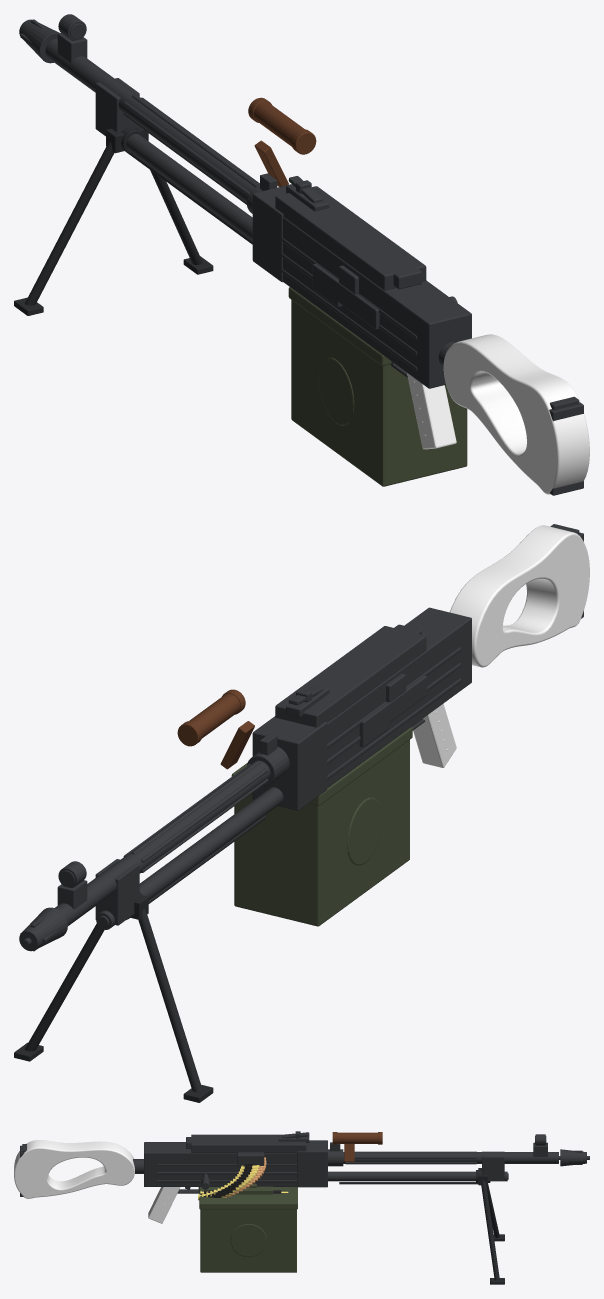
File: bixi.glb
The picture shows the model from 3 angles, top to bottom: view 1: azimuth 30°, elevation 25°; view 2: azimuth 150°, elevation 25°; view 3: azimuth 270°, elevation 25°; orthographic projection. The views are drawn at different scales.
Visible parts, largest first — view 1: Bixi_Receiver_Group, Bixi_Ammo_Can, Bixi_Wood_Stock, Bixi_Fluted_Barrel_Gas, Bixi_Bipod_Assembly, Bixi_Carry_Handle, Bixi_Pistol_Grip, Bixi_Muzzle_FrontSight, Bixi_Stock_Fittings; view 2: Bixi_Receiver_Group, Bixi_Ammo_Can, Bixi_Fluted_Barrel_Gas, Bixi_Wood_Stock, Bixi_Bipod_Assembly, Bixi_Muzzle_FrontSight, Bixi_Carry_Handle, Bixi_Pistol_Grip; view 3: Bixi_Receiver_Group, Bixi_Ammo_Can, Bixi_Fluted_Barrel_Gas, Bixi_Wood_Stock, Bixi_Bipod_Assembly, Bixi_Carry_Handle, Bixi_Muzzle_FrontSight, Bixi_Pistol_Grip, Bixi_Ammo_Belt_Brass, Bixi_Belt_Links, Bixi_Ammo_Copper_Tips, Bixi_Stock_Fittings.
Boxes of the visible parts, left/top/right/bottom form: Bixi_Receiver_Group: left=252, top=176, right=471, bottom=388; Bixi_Ammo_Can: left=288, top=287, right=467, bottom=486; Bixi_Wood_Stock: left=443, top=334, right=589, bottom=494; Bixi_Fluted_Barrel_Gas: left=45, top=38, right=277, bottom=240; Bixi_Bipod_Assembly: left=14, top=126, right=252, bottom=315; Bixi_Carry_Handle: left=248, top=97, right=316, bottom=186; Bixi_Pistol_Grip: left=407, top=373, right=456, bottom=449; Bixi_Muzzle_FrontSight: left=19, top=14, right=87, bottom=63; Bixi_Stock_Fittings: left=438, top=342, right=583, bottom=495; Bixi_Receiver_Group: left=252, top=607, right=471, bottom=810; Bixi_Ammo_Can: left=231, top=727, right=412, bottom=926; Bixi_Fluted_Barrel_Gas: left=55, top=733, right=289, bottom=929; Bixi_Wood_Stock: left=449, top=525, right=589, bottom=667; Bixi_Bipod_Assembly: left=14, top=815, right=266, bottom=1102; Bixi_Muzzle_FrontSight: left=19, top=861, right=87, bottom=951; Bixi_Carry_Handle: left=177, top=689, right=254, bottom=769; Bixi_Pistol_Grip: left=413, top=703, right=456, bottom=767; Bixi_Receiver_Group: left=144, top=1131, right=327, bottom=1189; Bixi_Ammo_Can: left=199, top=1184, right=297, bottom=1272; Bixi_Fluted_Barrel_Gas: left=328, top=1142, right=558, bottom=1181; Bixi_Wood_Stock: left=14, top=1140, right=134, bottom=1198; Bixi_Bipod_Assembly: left=339, top=1168, right=504, bottom=1284; Bixi_Carry_Handle: left=332, top=1132, right=382, bottom=1161; Bixi_Muzzle_FrontSight: left=533, top=1134, right=589, bottom=1166; Bixi_Pistol_Grip: left=148, top=1187, right=180, bottom=1223; Bixi_Ammo_Belt_Brass: left=198, top=1165, right=288, bottom=1200; Bixi_Belt_Links: left=201, top=1163, right=281, bottom=1197; Bixi_Ammo_Copper_Tips: left=224, top=1157, right=266, bottom=1197; Bixi_Stock_Fittings: left=20, top=1144, right=143, bottom=1196.
Size of the model in its own units: 0.274 by 0.3695 by 1.4.
